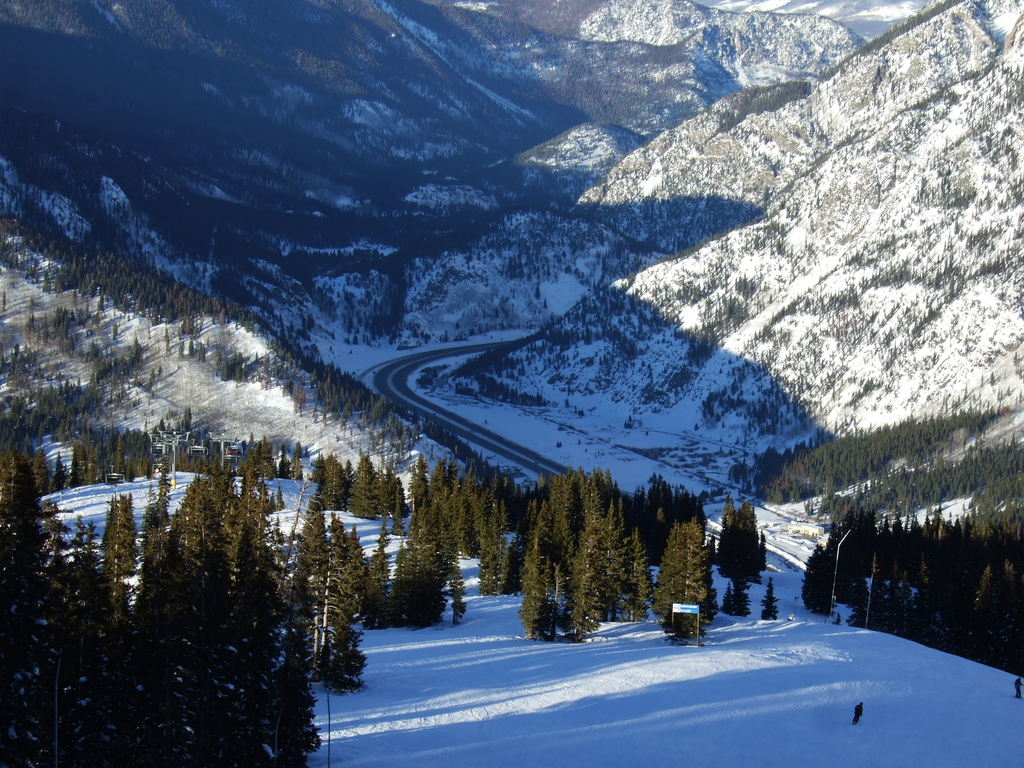Tree: (0, 453, 320, 767), (797, 504, 1022, 678), (542, 473, 650, 618), (296, 499, 365, 689), (650, 517, 714, 649), (400, 499, 461, 631), (311, 452, 406, 520), (562, 526, 604, 646), (714, 497, 766, 583), (478, 492, 513, 596), (517, 535, 551, 638), (719, 576, 751, 615), (757, 574, 780, 621)
